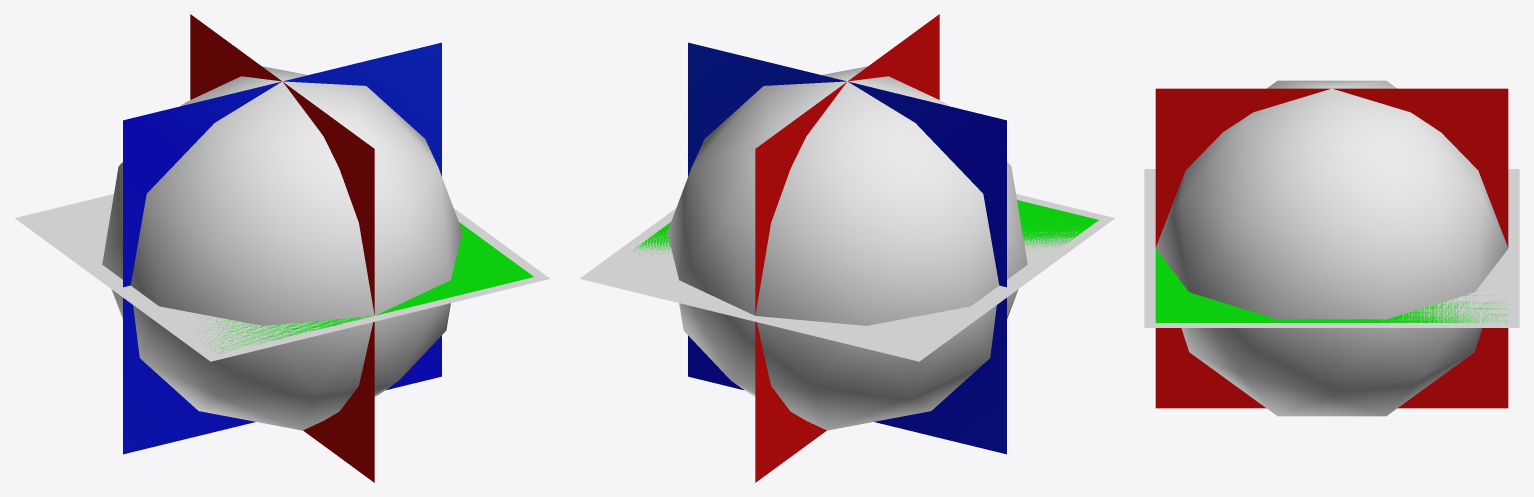
File: SphereEmitter.glb
3 views of the same model, side by side, from view 1: azimuth 30°, elevation 25°; view 2: azimuth 150°, elevation 25°; view 3: azimuth 270°, elevation 25° (orthographic). The views are drawn at different scales.
Parts seen in each view (by area): view 1: Icosphere, Plane.003, Plane; view 2: Icosphere, Plane.003, Plane; view 3: Icosphere, Plane.003, Plane.
Boxes of the visible parts, bbox=[...] form: Icosphere: bbox=[102, 66, 462, 430]; Plane.003: bbox=[123, 14, 533, 482]; Plane: bbox=[15, 194, 549, 361]; Icosphere: bbox=[667, 66, 1027, 430]; Plane.003: bbox=[632, 14, 1098, 482]; Plane: bbox=[580, 194, 1114, 361]; Icosphere: bbox=[1155, 80, 1508, 416]; Plane.003: bbox=[1155, 88, 1508, 408]; Plane: bbox=[1144, 169, 1519, 327].
Size of the model in its own units: 1.06 by 1 by 1.06.
